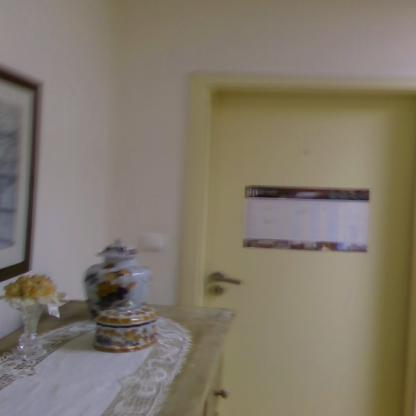door: (210, 98, 413, 416)
lever: (213, 275, 247, 287)
